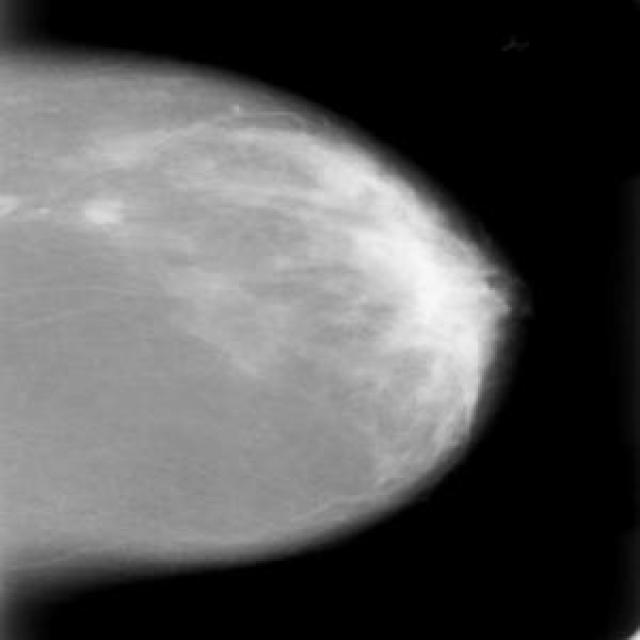tumor: (318, 144, 484, 445), (70, 179, 156, 237)
